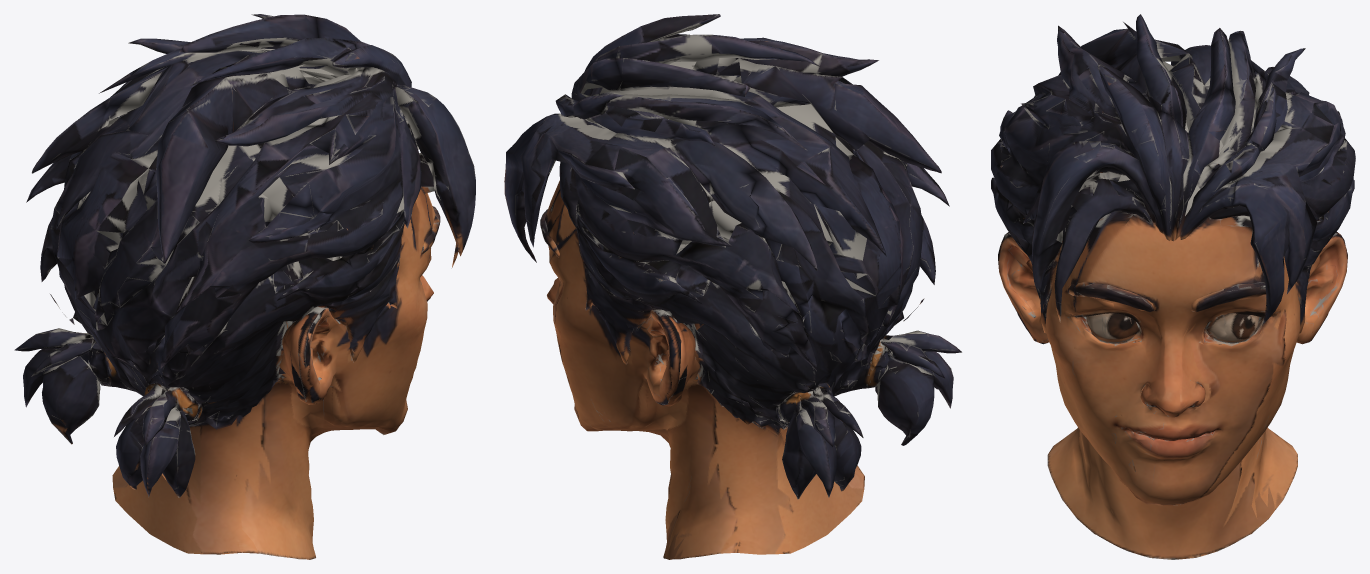
The model's file is head.glb.
The picture shows the model from 3 angles, left to right: view 1: azimuth 30°, elevation 25°; view 2: azimuth 150°, elevation 25°; view 3: azimuth 270°, elevation 25°; orthographic projection.
Parts seen in each view (by area): view 1: MeshAxiom; view 2: MeshAxiom; view 3: MeshAxiom.
Part boxes in pixels (left/top/right/bottom): MeshAxiom: left=14, top=14, right=475, bottom=559; MeshAxiom: left=504, top=14, right=961, bottom=559; MeshAxiom: left=991, top=14, right=1355, bottom=559.
Size of the model in its own units: 0.2594 by 0.35 by 0.2314.
Materials: 1 (1 with a texture image).
